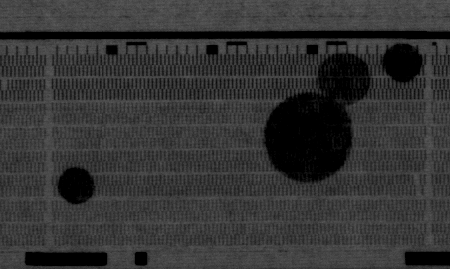Broken hole: (412, 174, 425, 198), (2, 79, 10, 91)
